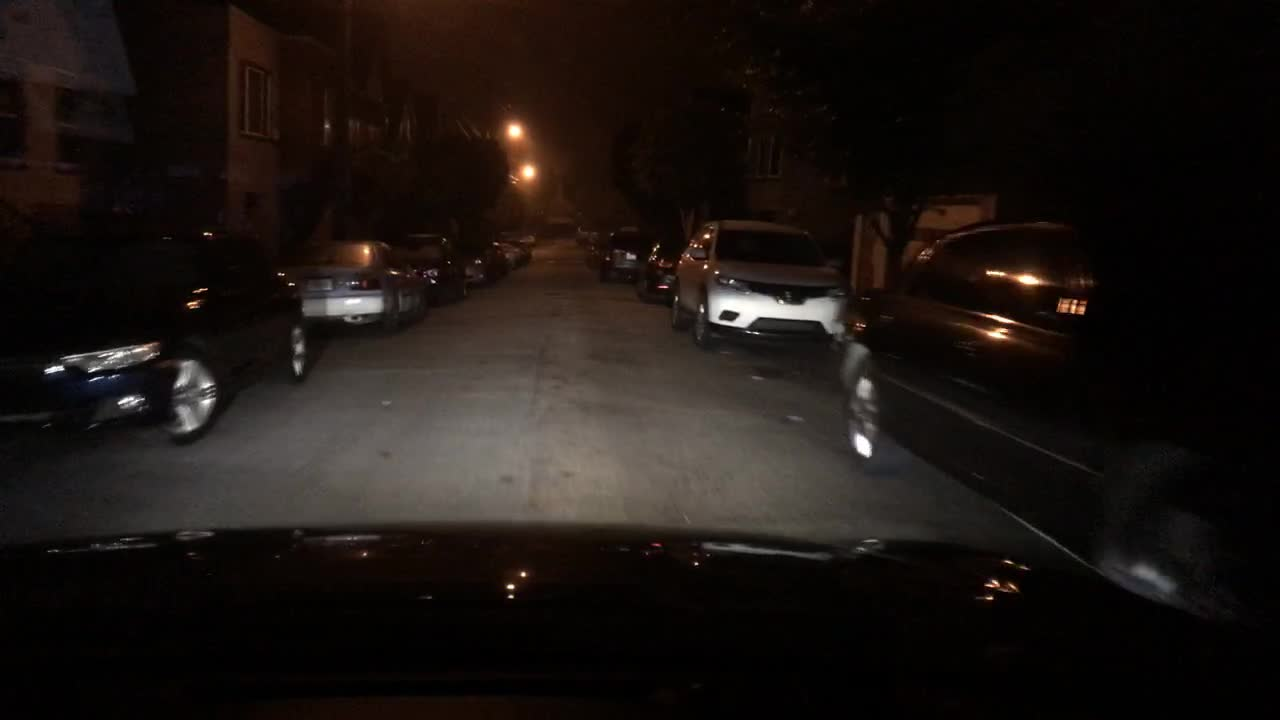car: (838, 213, 1279, 632), (1, 221, 308, 449), (669, 218, 858, 352), (283, 234, 426, 335), (398, 230, 470, 305), (638, 238, 686, 306), (600, 227, 651, 283), (464, 240, 509, 285), (493, 239, 531, 269), (584, 230, 605, 269), (573, 225, 592, 243), (518, 234, 539, 245)
